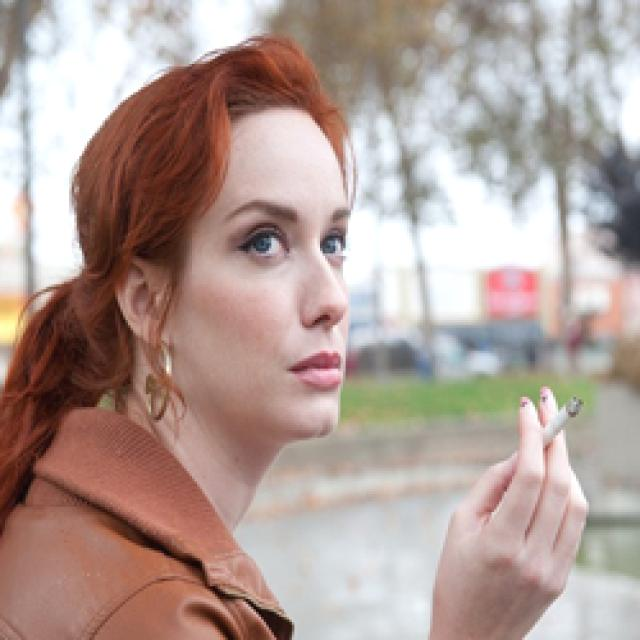Smooking: (535, 378, 585, 442)
